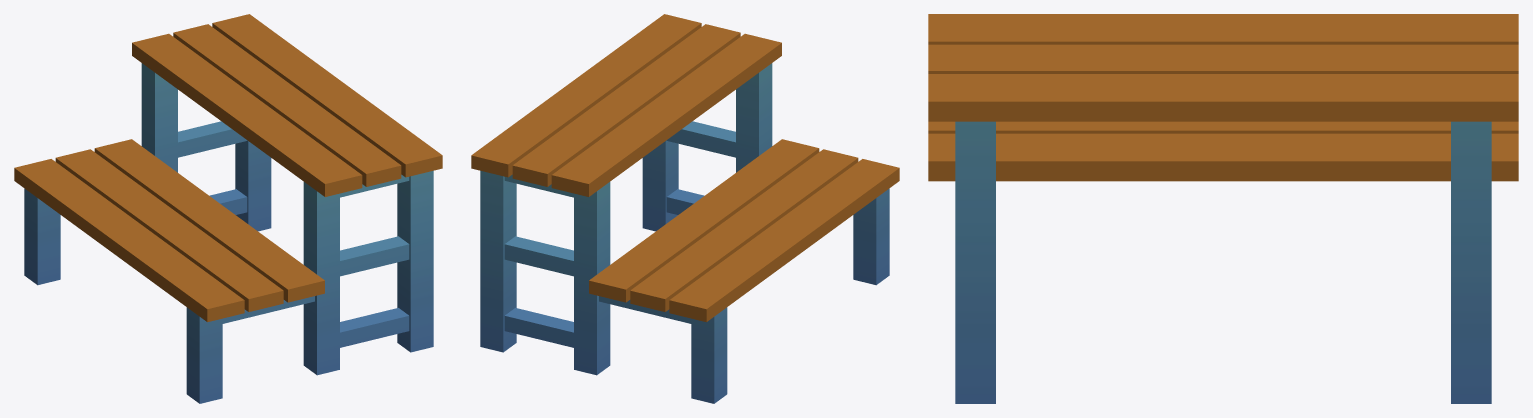
The model's file is Bench_1_B_2.fbx.
3 views of the same model, side by side, from view 1: azimuth 30°, elevation 25°; view 2: azimuth 150°, elevation 25°; view 3: azimuth 270°, elevation 25° (orthographic). The views are drawn at different scales.
Parts seen in each view (by area): view 1: Bench_1_B_2; view 2: Bench_1_B_2; view 3: Bench_1_B_2.
Boxes of the visible parts, x1,y1,x2,y2 form: Bench_1_B_2: [14, 14, 442, 403]; Bench_1_B_2: [471, 14, 899, 403]; Bench_1_B_2: [928, 14, 1518, 403].
Bounding box in the file's own units: 81.37 × 65.4 × 116.
